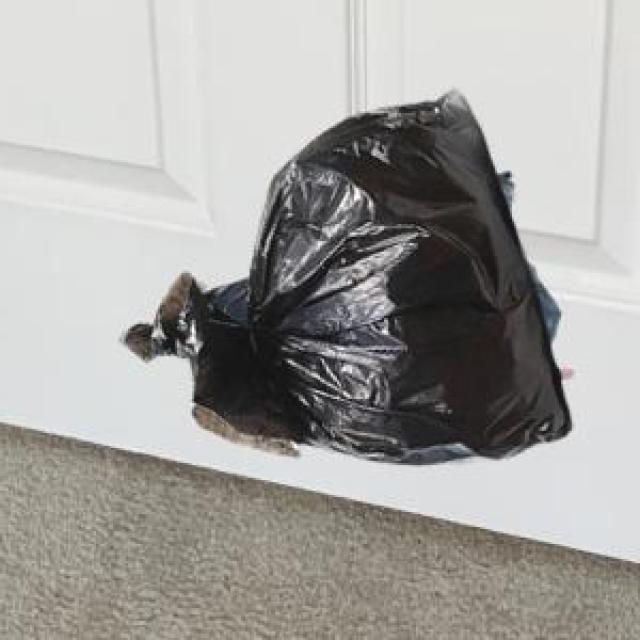Trashbag: (117, 77, 577, 474)
